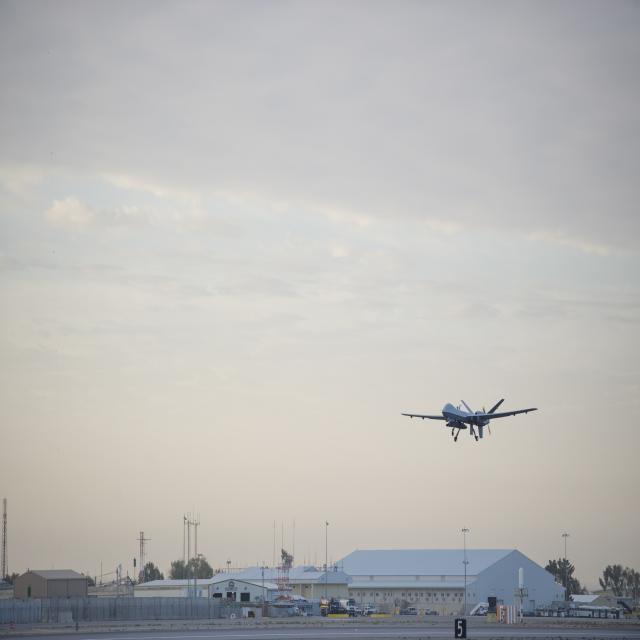MIL_Plane: (422, 398, 517, 442)
